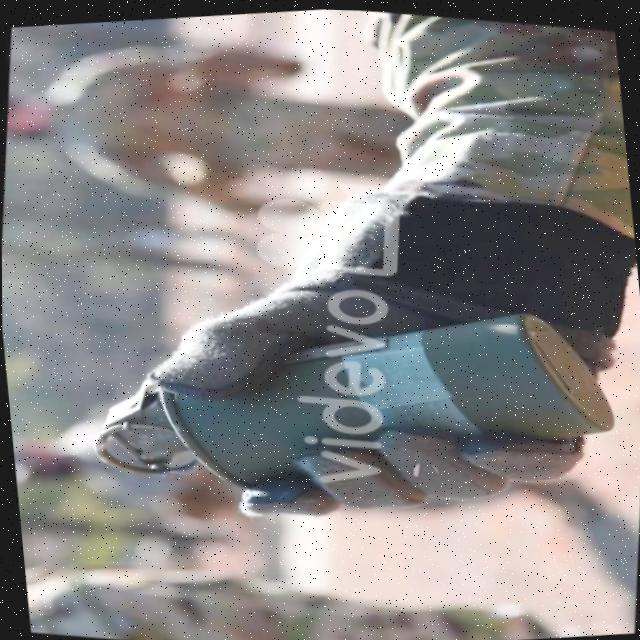grenade: (68, 234, 639, 570)
